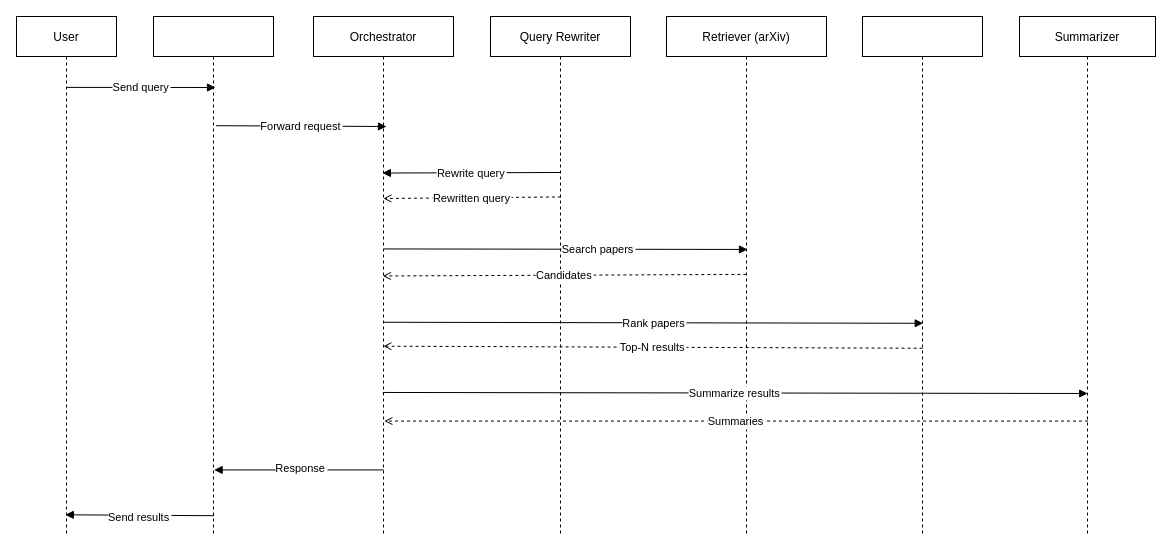
Image size: 1172x553. Some labels were removed from this diagram. Each missing label, with the box of its shape:
Ranker: (862, 16, 982, 536)
Telegram Bot: (152, 16, 274, 536)
